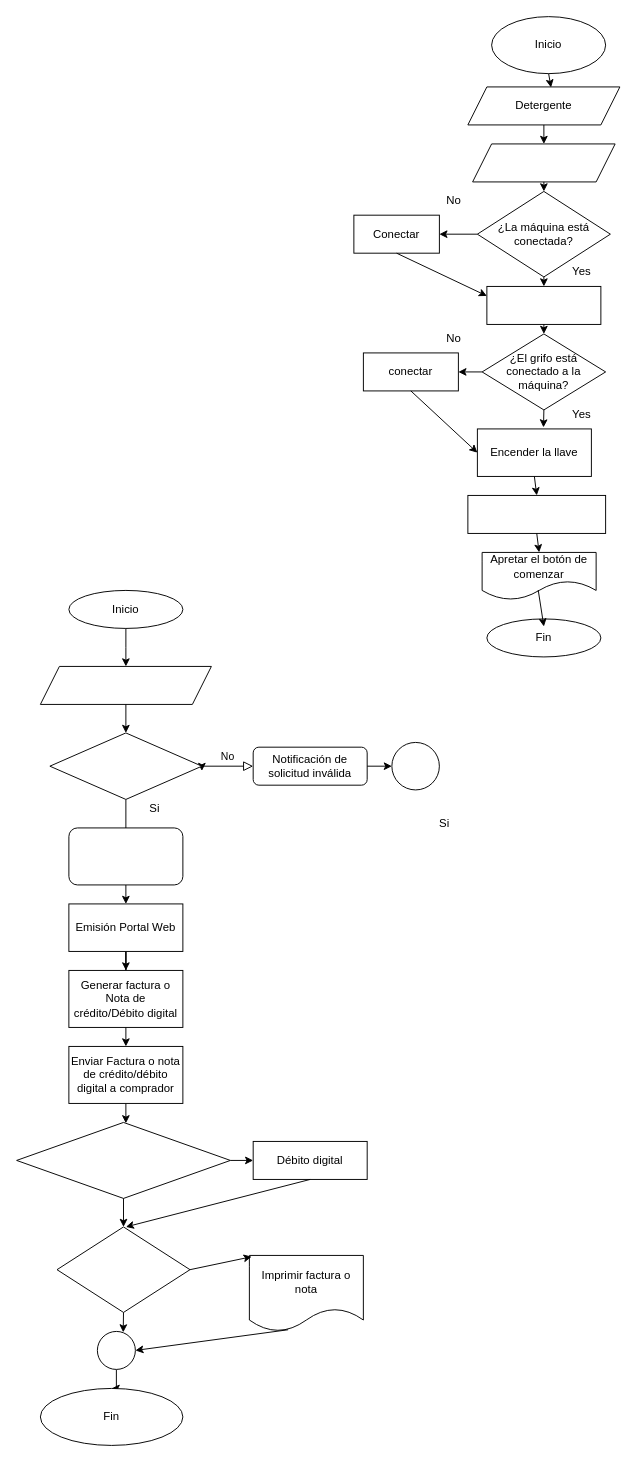
This 637x1462 diagram has some shape labels left out. Each missing label, with the centre of its shape:
"Encender la lavadora" belongs at [543,304].
"Escoger modo de lavado" belongs at [536,513].
"Notificación de habilitación de modalidad web" belongs at [125,856].
"Ropa" belongs at [543,162].
"Solicitar factura en línea" belongs at [125,684].
"Validar y autorizar la facturación portal web" belongs at [125,765].
"¿Corresponde débito digital?" belongs at [123,1159].
"¿Desea impresión en formato pdf?" belongs at [123,1269].
